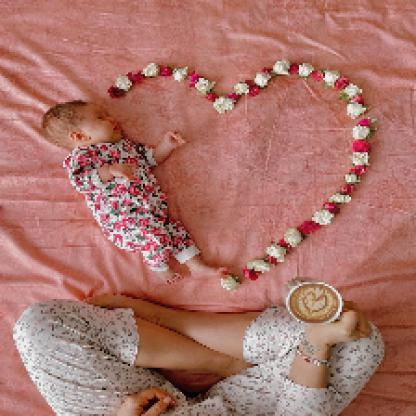child: (42, 99, 231, 287)
